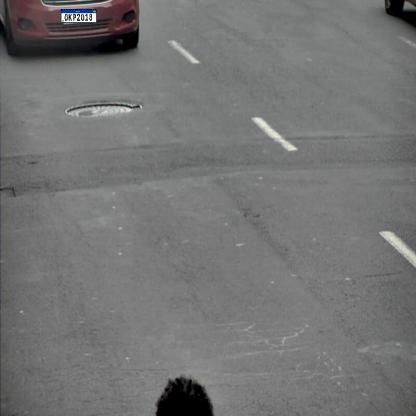PlacaM: (61, 9, 97, 23)
